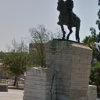Statue: (45, 0, 93, 51)
